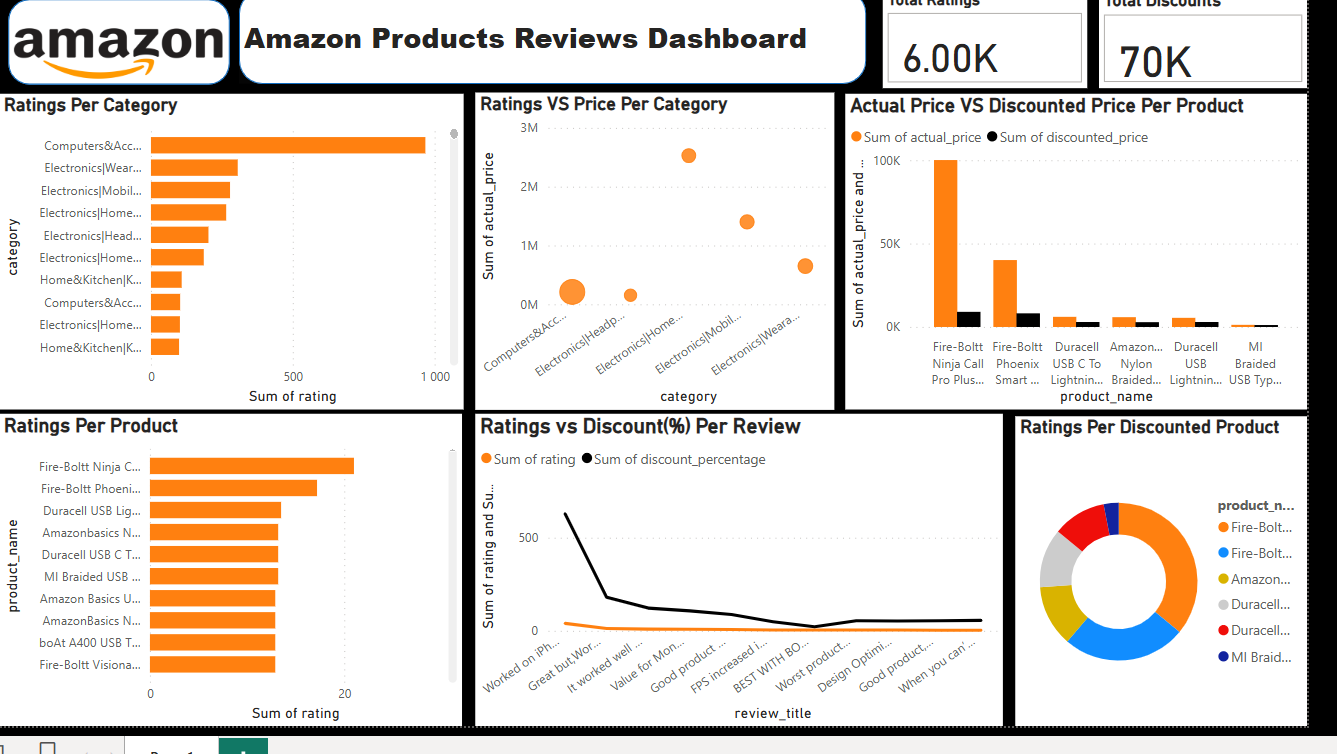

This screenshot's page, from the dashboard's own definition file:
{"tool":"powerbi","page":{"name":"Page 1","canvas":[1280,720],"ordinal":0},"visuals":[{"type":"shape","box":[0,0,234.6,101.5],"z":0},{"type":"image","box":[9.6,22,214.1,79.6],"z":1},{"type":"shape","box":[234.6,0,613.4,91.9],"z":2},{"type":"textbox","box":[234.6,22,581.8,70],"z":3},{"type":"cardVisual","title":"Total Ratings","fields":{"Data":["Sum(cleaned_amazon_reviews.rating)"]},"box":[864.5,0,200.3,96.1],"z":5},{"type":"cardVisual","title":"Total Discounts","fields":{"Data":["Sum(cleaned_amazon_reviews.discount_percentage)"]},"box":[1075.8,0,204.5,96.1],"z":6},{"type":"clusteredBarChart","title":"Ratings Per Product","fields":{"Category":["cleaned_amazon_reviews.product_name"],"Y":["Sum(cleaned_amazon_reviews.rating)"]},"box":[0,414.4,452.8,306],"z":7},{"type":"clusteredColumnChart","title":"Actual Price VS Discounted Price Per Product","fields":{"Category":["cleaned_amazon_reviews.product_name"],"Y":["Sum(cleaned_amazon_reviews.actual_price)","Sum(cleaned_amazon_reviews.discounted_price)"]},"box":[827.4,101.5,452.8,308.7],"z":8},{"type":"lineChart","title":"Ratings vs Discount(%) Per Review","fields":{"Category":["cleaned_amazon_reviews.review_title"],"Y":["Sum(cleaned_amazon_reviews.rating)","Sum(cleaned_amazon_reviews.discount_percentage)"]},"box":[465.2,414.4,516,306],"z":9},{"type":"clusteredBarChart","title":"Ratings Per Category","fields":{"Category":["cleaned_amazon_reviews.category"],"Y":["Sum(cleaned_amazon_reviews.rating)"]},"box":[0,101.5,454.2,308.7],"z":10},{"type":"donutChart","title":"Ratings Per Discounted Product","fields":{"Category":["cleaned_amazon_reviews.product_name"],"Y":["Sum(cleaned_amazon_reviews.discount_percentage)"]},"box":[993.5,417.2,286.8,303.3],"z":11},{"type":"scatterChart","title":"Ratings VS Price Per Category","fields":{"X":["cleaned_amazon_reviews.category"],"Y":["Sum(cleaned_amazon_reviews.actual_price)"],"Size":["Sum(cleaned_amazon_reviews.rating)"]},"box":[465.2,100.2,351.3,310.1],"z":12}]}

Visuals, with their boxes in screenshot pixels (x1, y1, x2, y2), scaled from the page's 1280x720 canvas onto the 1337x754 screenshot:
shape: 0,0,245,106
image: 10,23,234,106
shape: 245,0,886,96
textbox: 245,23,853,96
"Total Ratings" cardVisual: 903,0,1112,101
"Total Discounts" cardVisual: 1124,0,1336,101
"Ratings Per Product" clusteredBarChart: 0,434,473,753
"Actual Price VS Discounted Price Per Product" clusteredColumnChart: 864,106,1336,430
"Ratings vs Discount(%) Per Review" lineChart: 486,434,1025,753
"Ratings Per Category" clusteredBarChart: 0,106,474,430
"Ratings Per Discounted Product" donutChart: 1038,437,1336,753
"Ratings VS Price Per Category" scatterChart: 486,105,853,430
